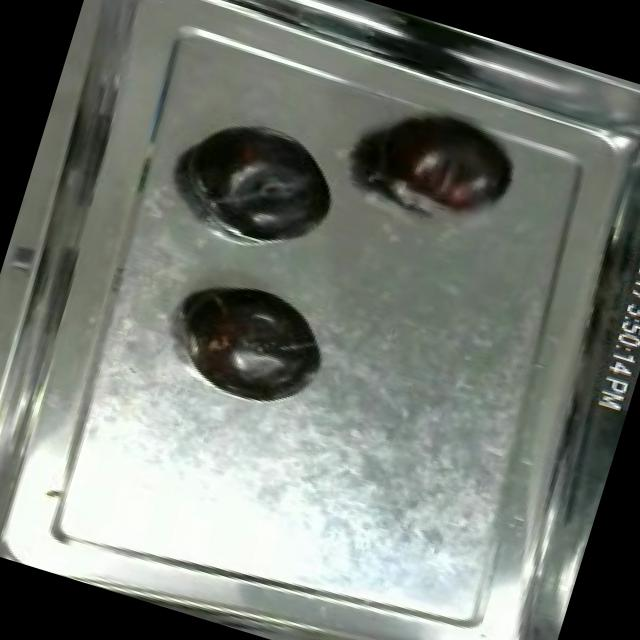Fruit: (164, 265, 342, 417), (174, 105, 352, 257), (363, 94, 528, 236)
